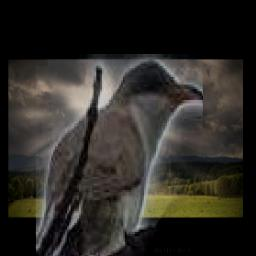Cuckoo: (36, 55, 203, 256)
